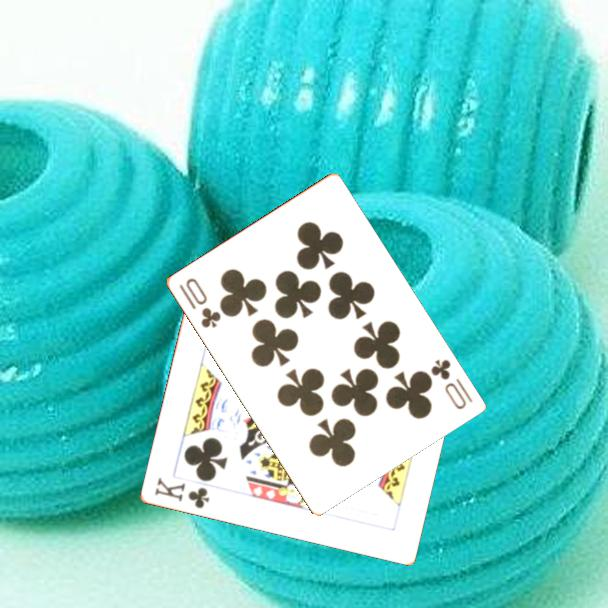c10: (175, 274, 224, 331), (427, 355, 475, 412)
c13: (151, 474, 212, 512)
